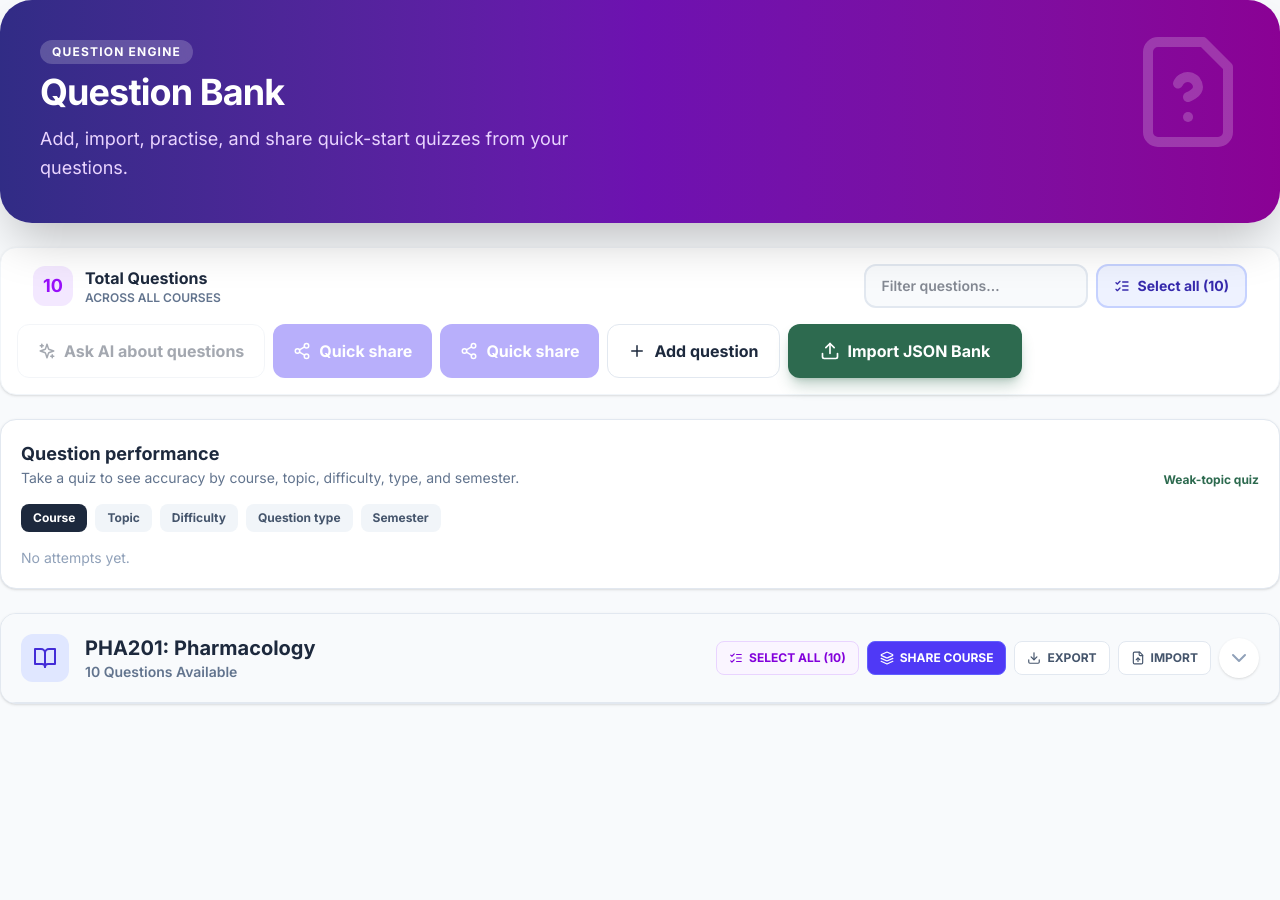
it: Select all follows the filter › keeps the AI button honest about the 8-question context cap
The image size is (1280, 900).
Click the button with test id "select-all-questions" at (1171, 286), box [1096, 264, 1247, 308]
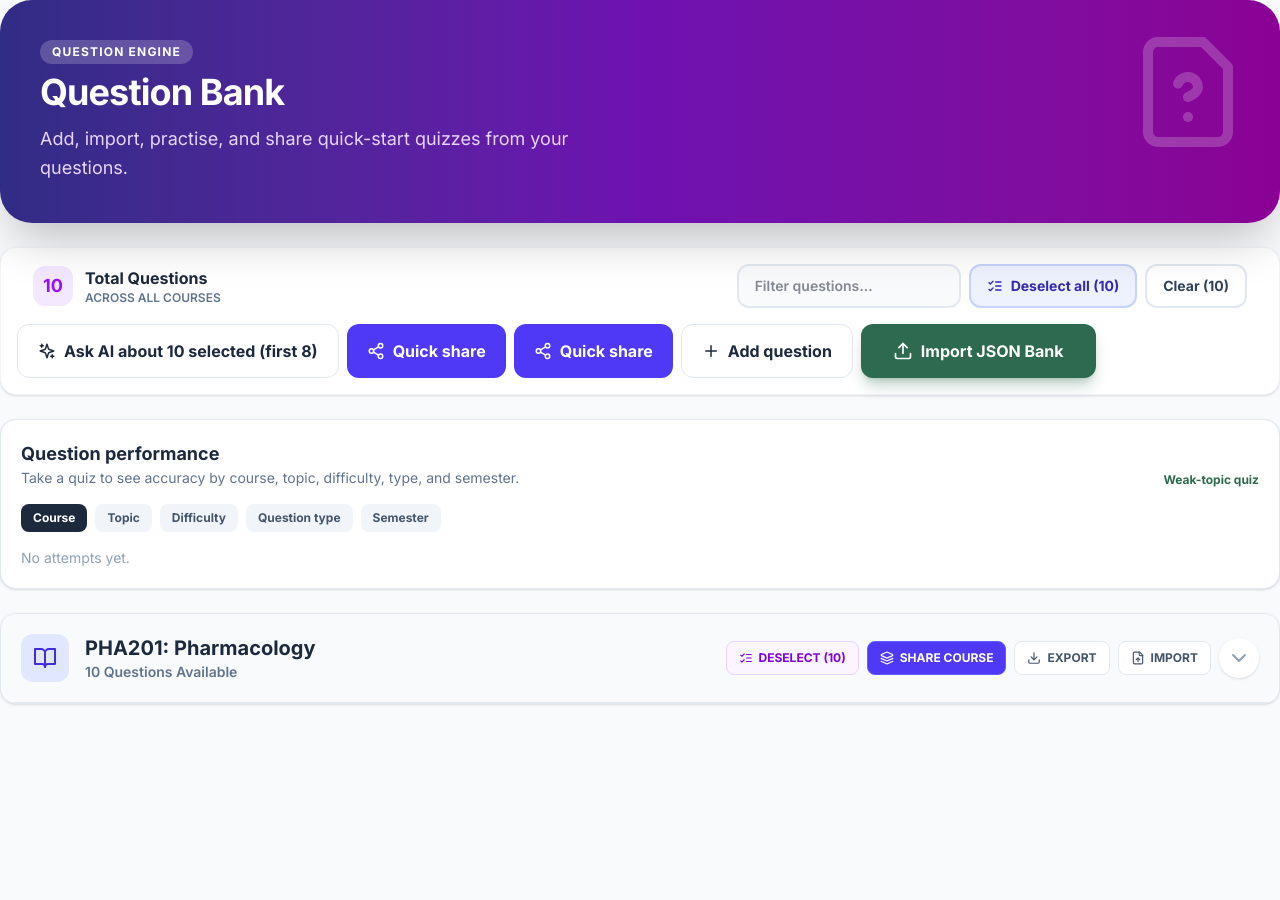
Expected: the text "Ask AI about 10 selected (first 8)" is shown, [64, 338, 318, 362]
